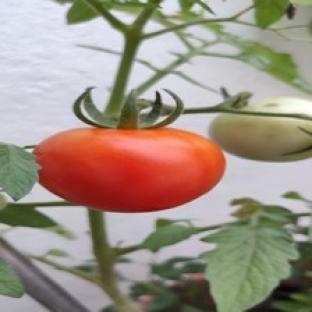Tomato: (34, 129, 224, 211), (209, 115, 311, 161)
